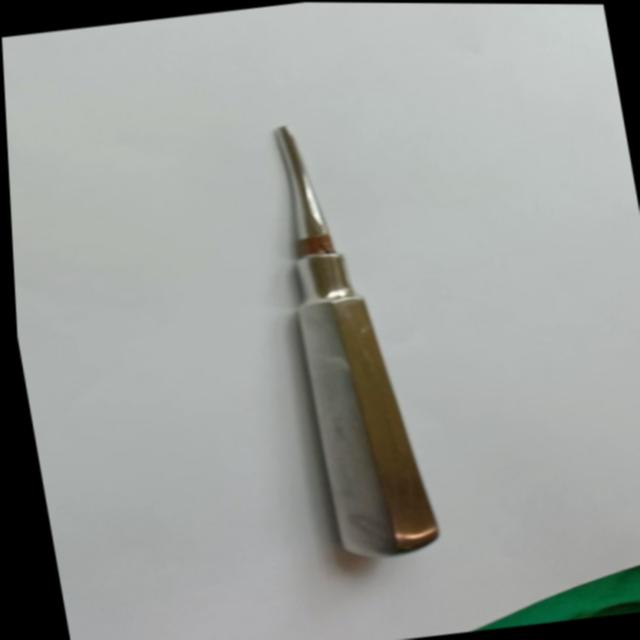Coupland1: (250, 106, 457, 565)
